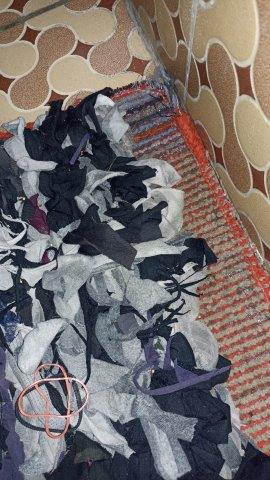karet: (15, 362, 89, 439)
